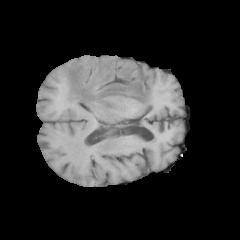glioma: (64, 63, 155, 123)
